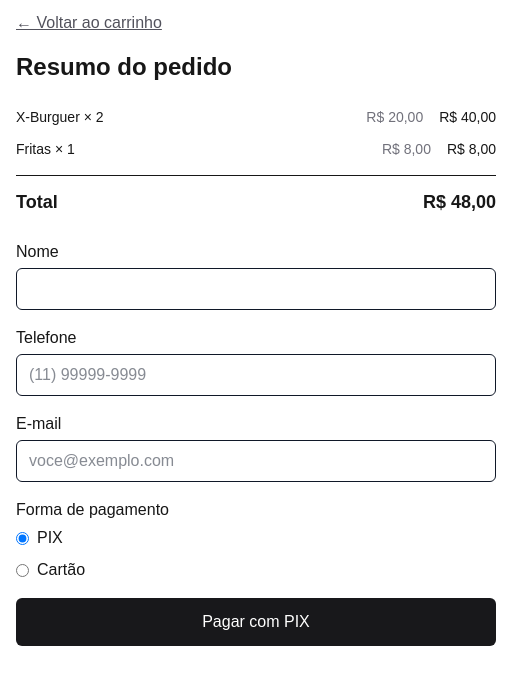
Scenario: CheckoutPage › shows inline error if phone has fewer than 10 digits on submit
The image size is (513, 699).
In the field labelled "Nome": (256, 289) [16, 268, 496, 310], type "João"
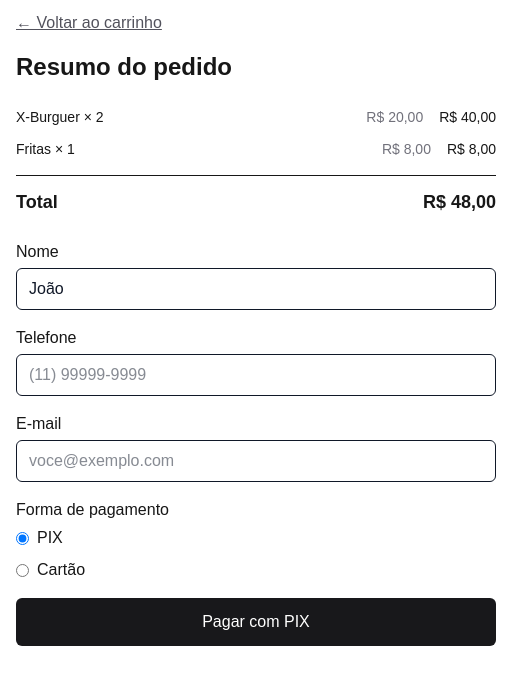
In the field labelled "Telefone": (256, 375) [16, 354, 496, 396], type "123"
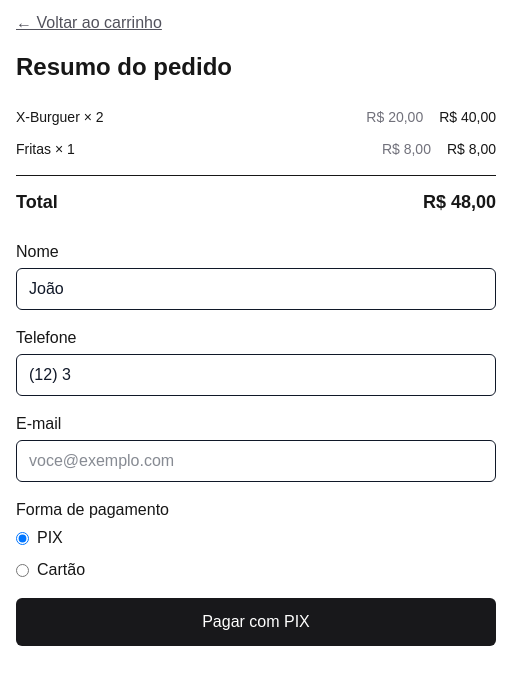
In the field labelled "E-mail": (256, 461) [16, 440, 496, 482], type "j@ex.com"
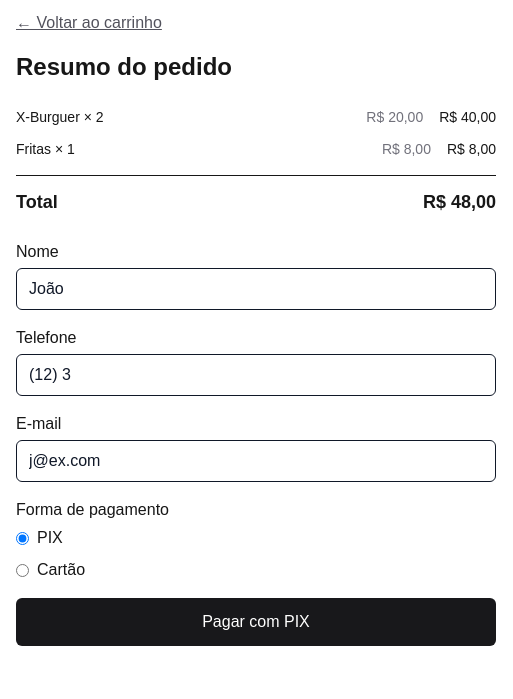
Submit the form "Pagar com PIX", box [16, 240, 496, 646]
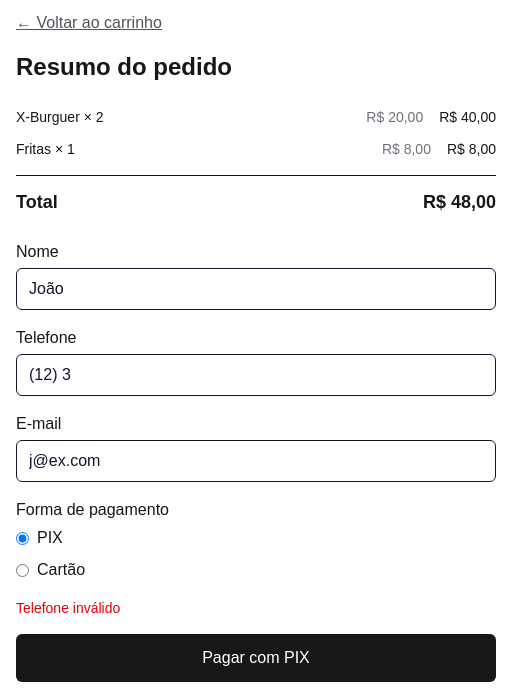
Expected: the text "Telefone inválido" is shown, [16, 600, 120, 616]
